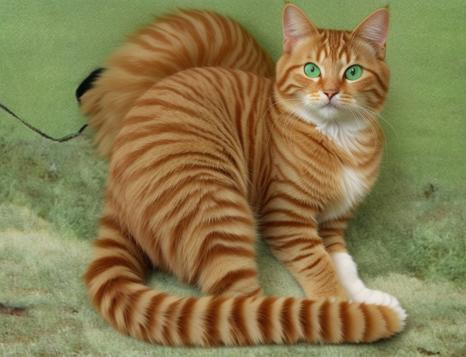cat: (77, 2, 411, 348)
